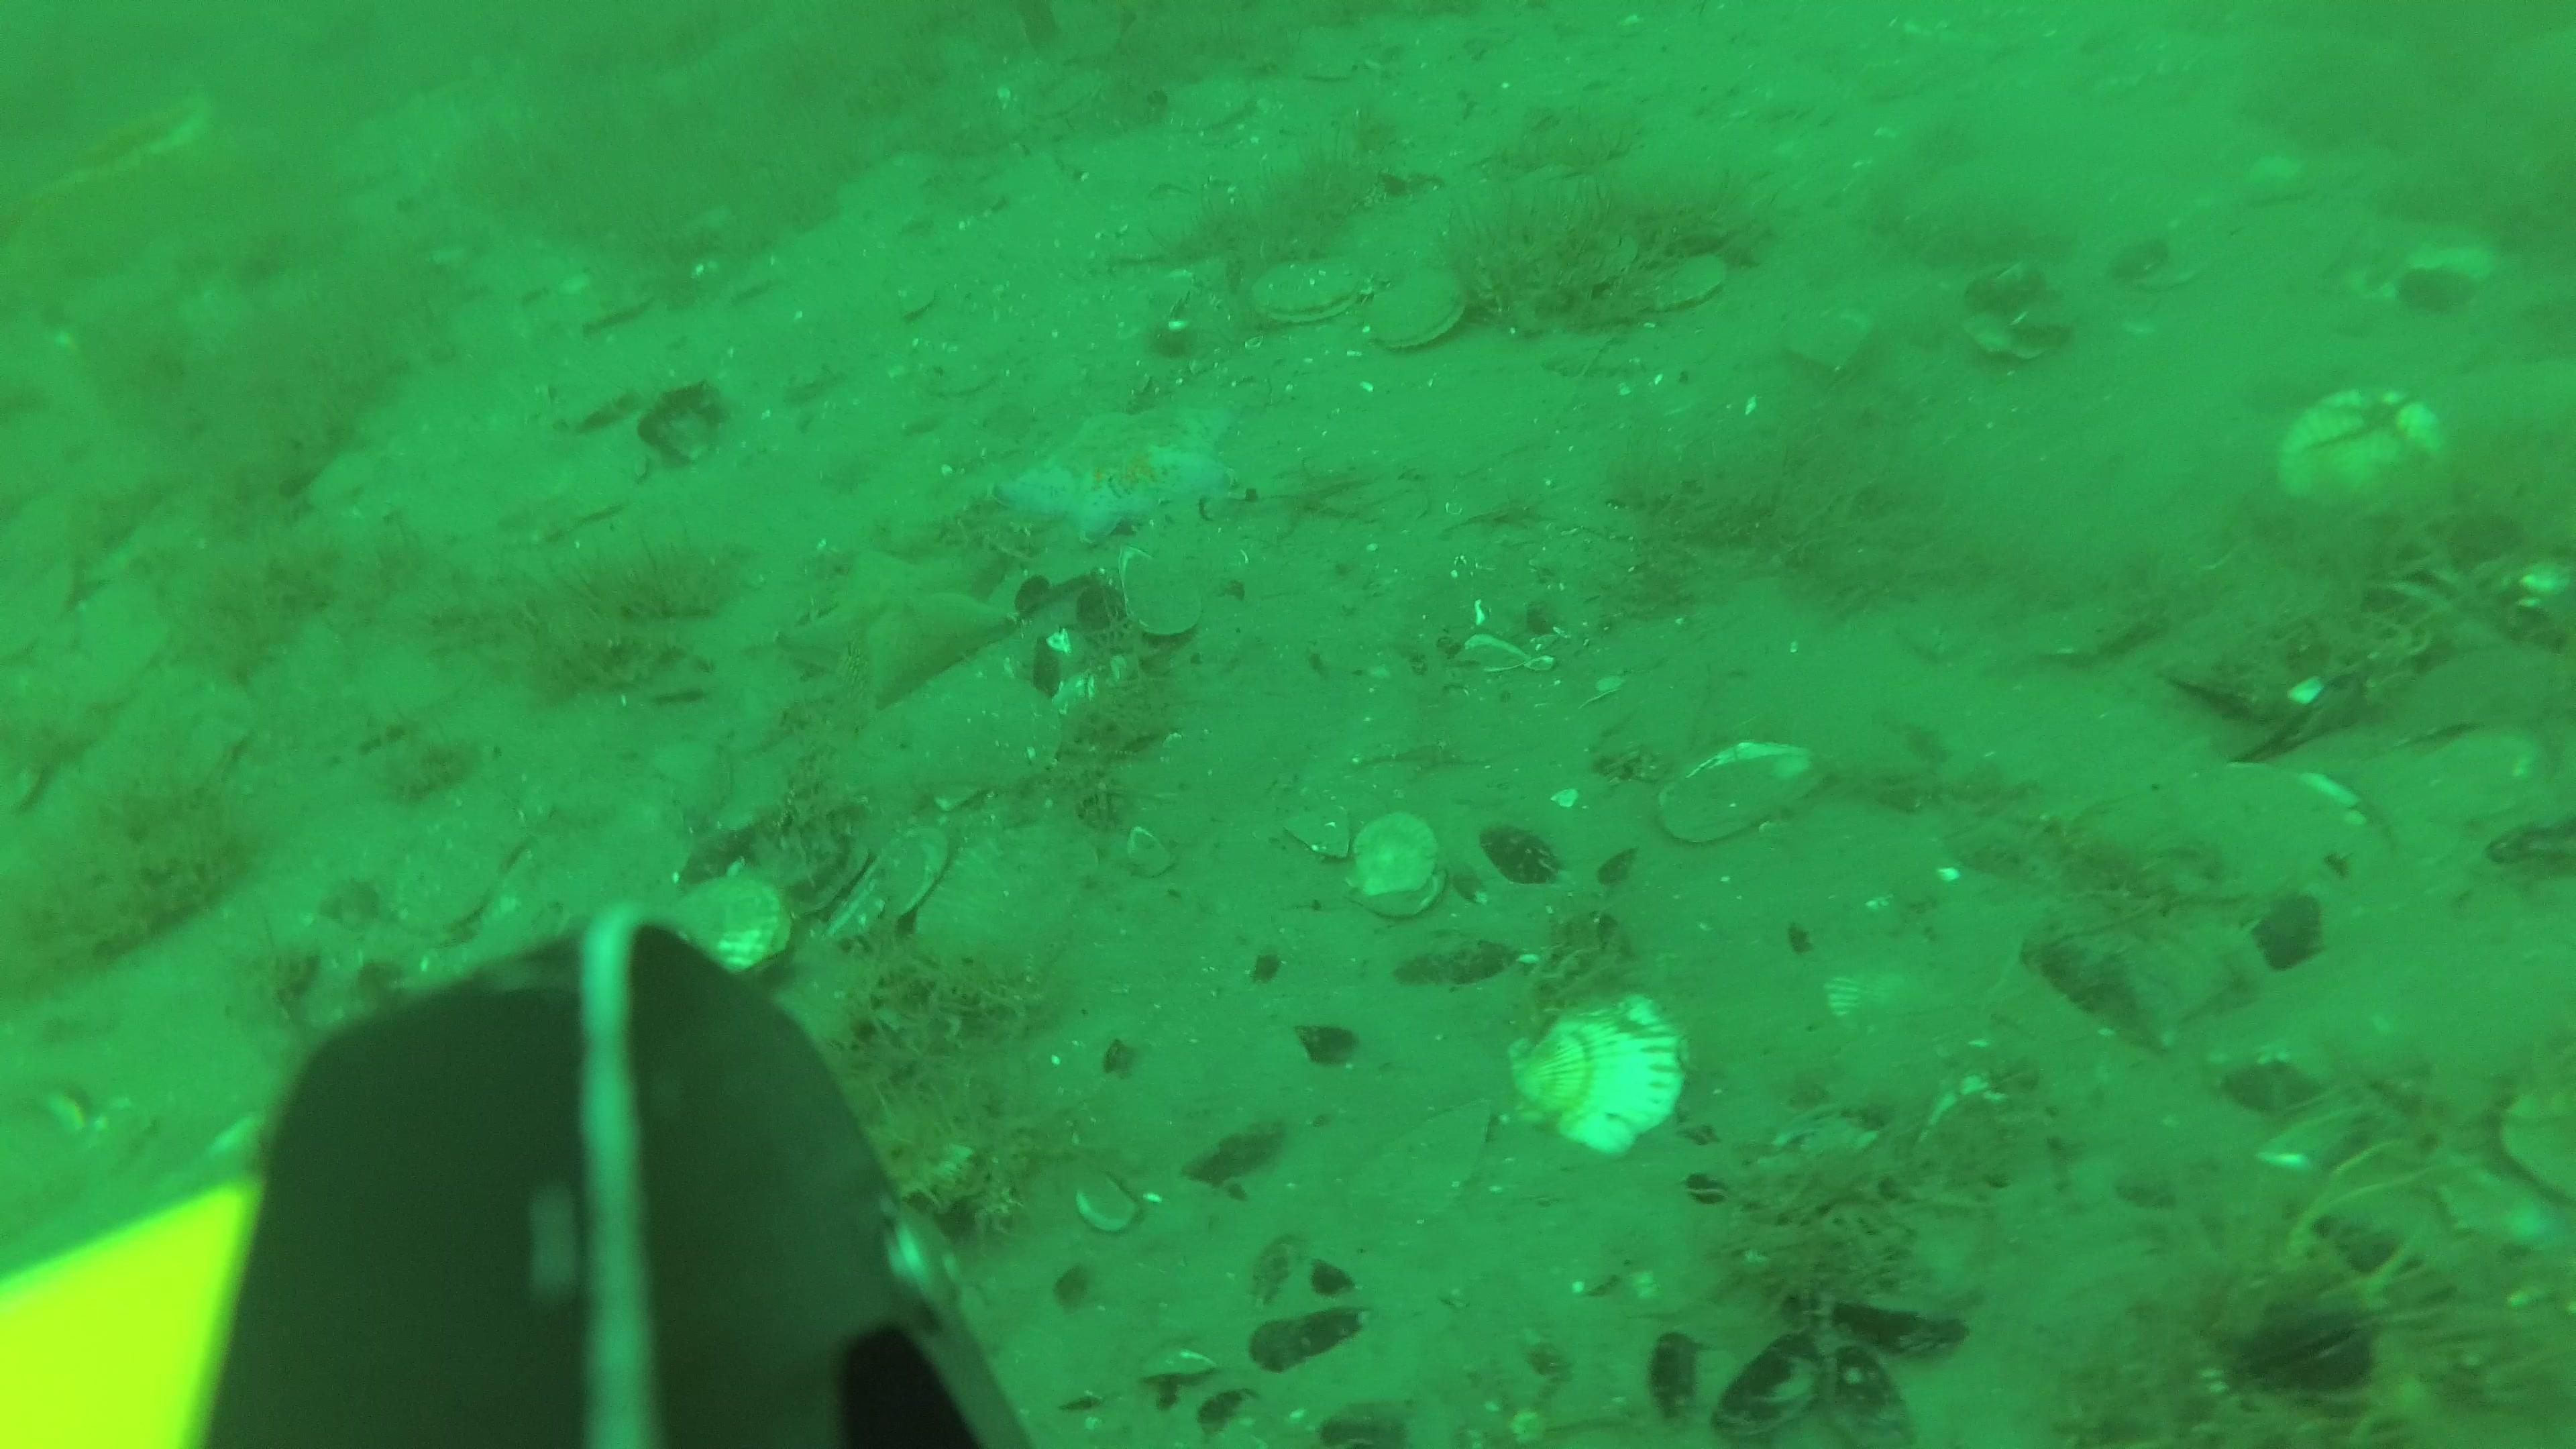scallop: (1511, 989, 1688, 1157), (2277, 391, 2442, 506), (1658, 740, 1826, 842), (655, 874, 789, 998), (398, 814, 520, 938), (1345, 810, 1445, 922), (1364, 262, 1470, 356), (1256, 260, 1368, 327)
starfish: (780, 547, 1019, 697), (1003, 396, 1242, 540)
